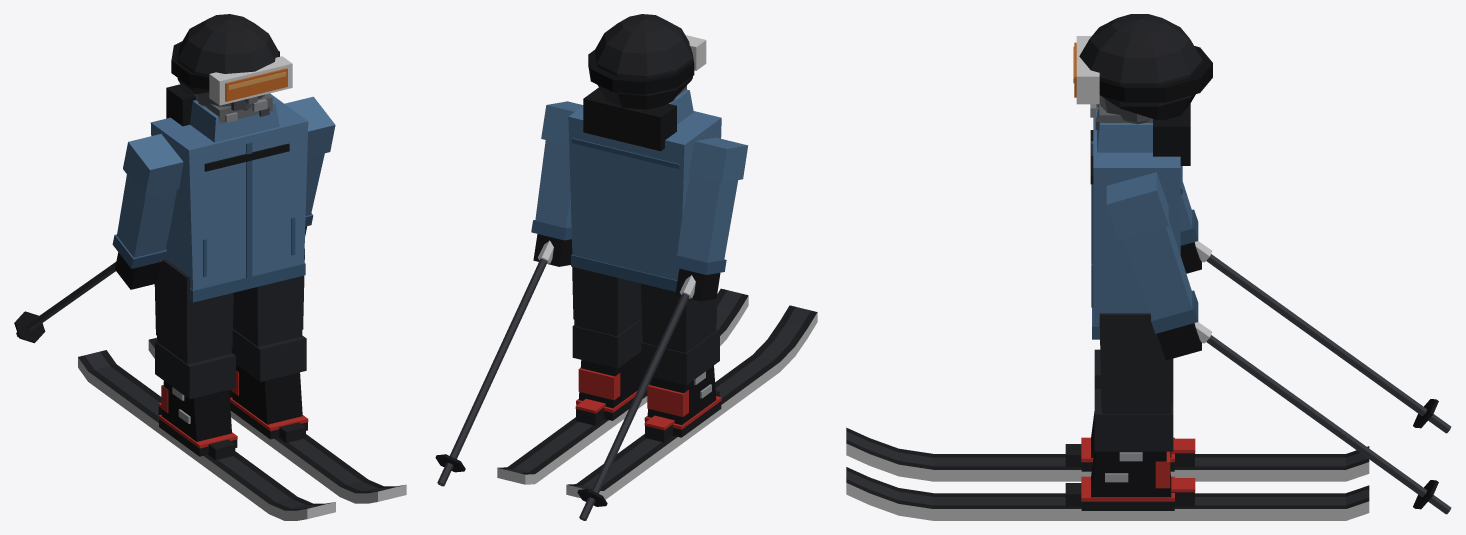
Rendered from skier-blue.glb.
The picture shows the model from 3 angles, left to right: view 1: azimuth 30°, elevation 25°; view 2: azimuth 150°, elevation 25°; view 3: azimuth 270°, elevation 25°; orthographic projection. The views are drawn at different scales.
Visible parts, largest first — view 1: Torso, Thighs, ArmL, Boots, SkiL, Shins, SkiR, ArmR, PoleL; view 2: Torso, ArmL, SkiL, Thighs, Boots, Shins, SkiR, ArmR, PoleR, PoleL; view 3: Torso, SkiR, SkiL, ArmR, Thighs, Boots, Shins, PoleR, PoleL, ArmL.
Part boxes in pixels (x1,y1,x2,y2): Torso: (150,14,308,302); Thighs: (154,249,304,357); ArmL: (112,134,183,289); Boots: (158,364,308,456); SkiL: (78,350,335,520); Shins: (155,322,306,399); SkiR: (148,337,406,503); ArmR: (284,96,335,236); PoleL: (14,262,116,343); Torso: (568,14,721,291); ArmL: (673,137,748,301); SkiL: (566,305,817,499); Thighs: (571,241,717,346); Boots: (576,352,721,437); Shins: (572,312,719,385); SkiR: (497,288,748,484); ArmR: (531,101,583,266); PoleR: (435,240,553,486); PoleL: (577,275,695,520); Torso: (1073,14,1212,339); SkiR: (846,467,1369,520); SkiL: (846,427,1369,481); ArmR: (1106,172,1201,360); Thighs: (1099,313,1173,406); Boots: (1081,411,1174,510); Shins: (1094,349,1173,451); PoleR: (1194,322,1451,514); PoleL: (1194,241,1451,433); ArmL: (1180,182,1201,273).
Bounding box in the file's own units: 0.84 × 1.8 × 2.08.
